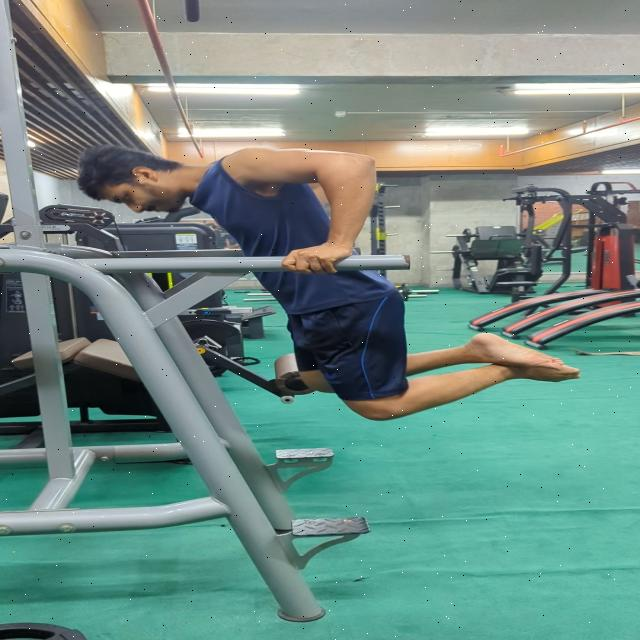Normal_Dips: (77, 133, 593, 422)
